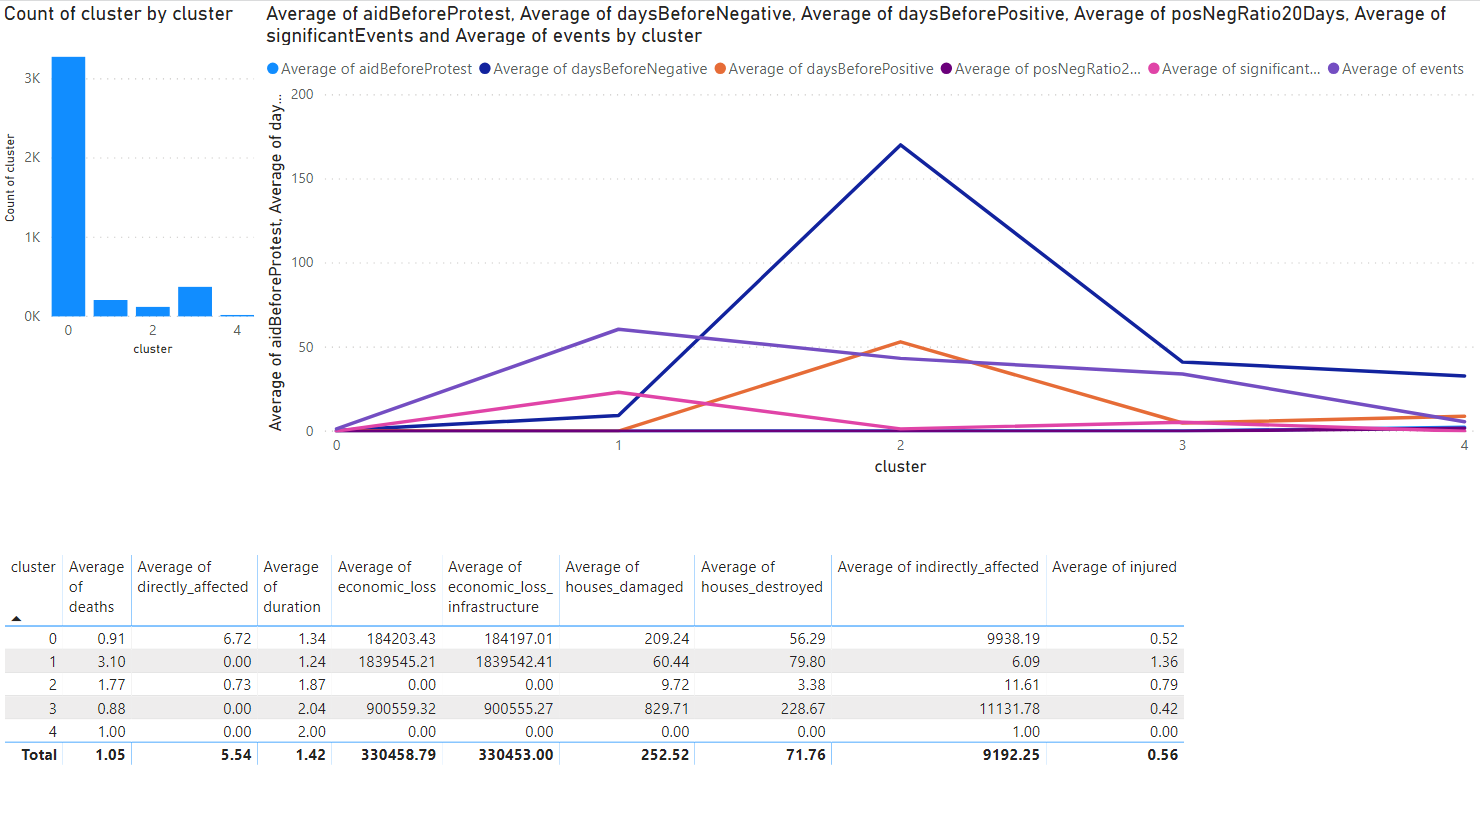

The dashboard page shown, as its layout file describes it:
{"tool":"powerbi","page":{"name":"Page 2","canvas":[1280,720],"ordinal":1},"visuals":[{"type":"clusteredColumnChart","fields":{"Category":["kmeans_4_40km.Cluster"],"Y":["CountNonNull(kmeans_4_40km.Cluster)"]},"box":[0,0,280.1,280.1],"z":0},{"type":"tableEx","fields":{"Values":["kmeans_4_40km.Cluster","Avg(kmeans_4_40km.deaths)","Avg(kmeans_4_40km.directly_affected)","Avg(kmeans_4_40km.duration)","Avg(kmeans_4_40km.economic_loss)","Avg(kmeans_4_40km.economic_loss_infrastructure)","Avg(kmeans_4_40km.houses_damaged)","Avg(kmeans_4_40km.houses_destroyed)","Avg(kmeans_4_40km.indirectly_affected)","Avg(kmeans_4_40km.injured)","Avg(kmeans_4_40km.total_affected)"]},"box":[0,289.9,1280,328.5],"z":1}]}

Visuals, with their boxes in screenshot pixels (x1, y1, x2, y2), scaled from the page's 1280x720 canvas onto the 1480x815 screenshot:
clusteredColumnChart - kmeans_4_40km.Cluster x CountNonNull(kmeans_4_40km.Cluster): l=0, t=0, r=324, b=317
tableEx - kmeans_4_40km.Cluster x Avg(kmeans_4_40km.deaths): l=0, t=328, r=1479, b=700
